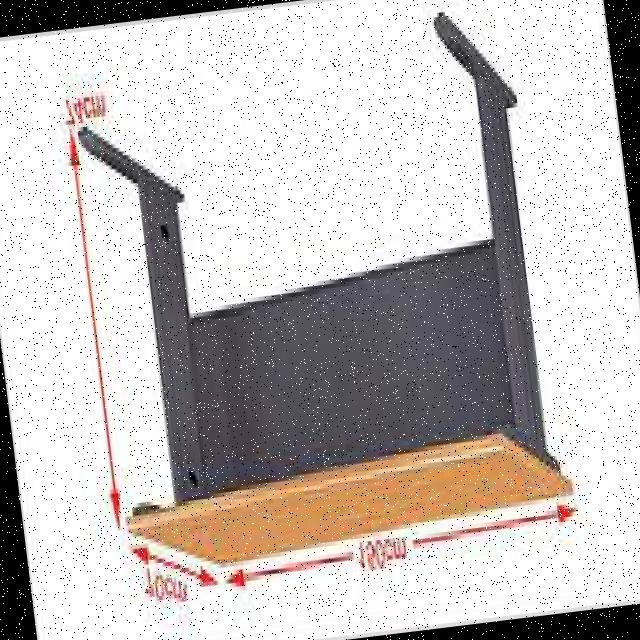Table: (54, 0, 590, 612)
